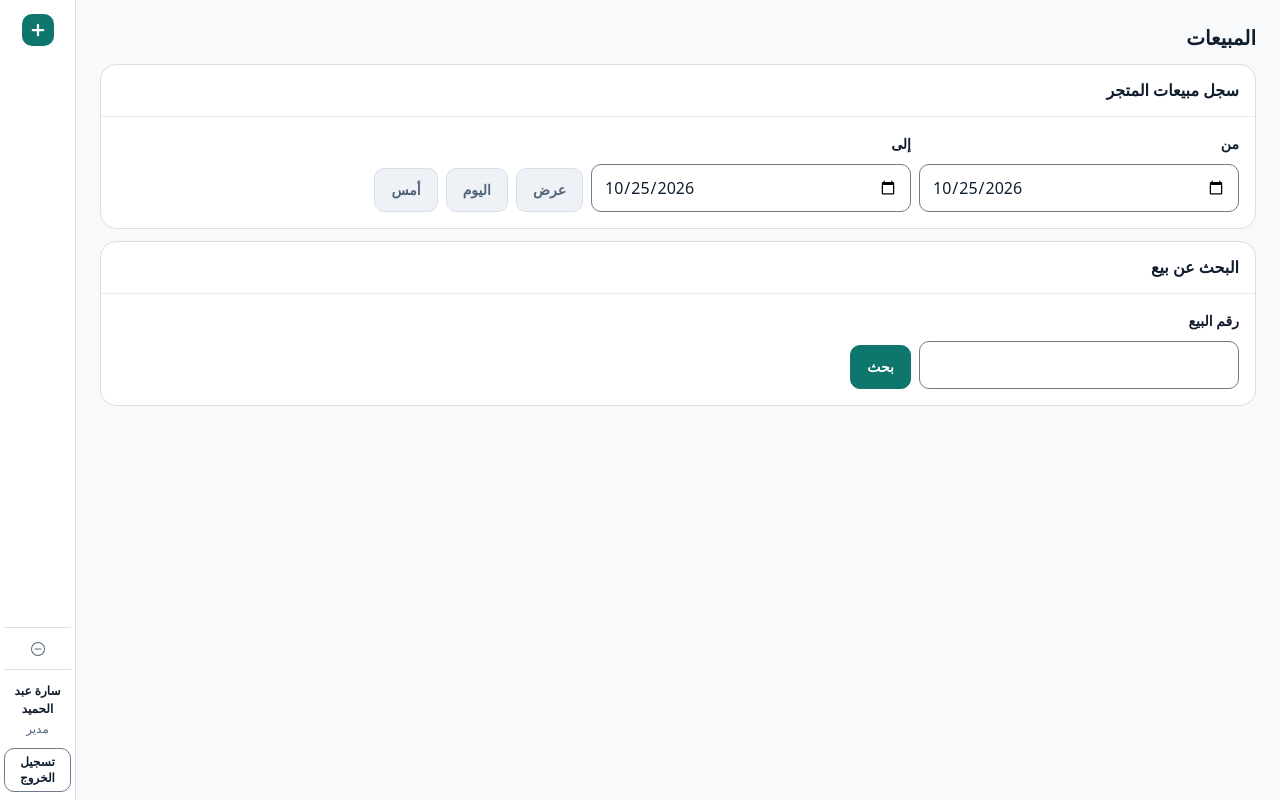
OneFrameProof — the Sales fakes (RT-500) › reprint=fail shows the warning
This screenshot has width=1280, height=800.
Type "TERM-01-2026-10-15-000042" into the field labelled "رقم البيع" at (1079, 364), box left=919, top=340, right=1239, bottom=388
Then press Enter
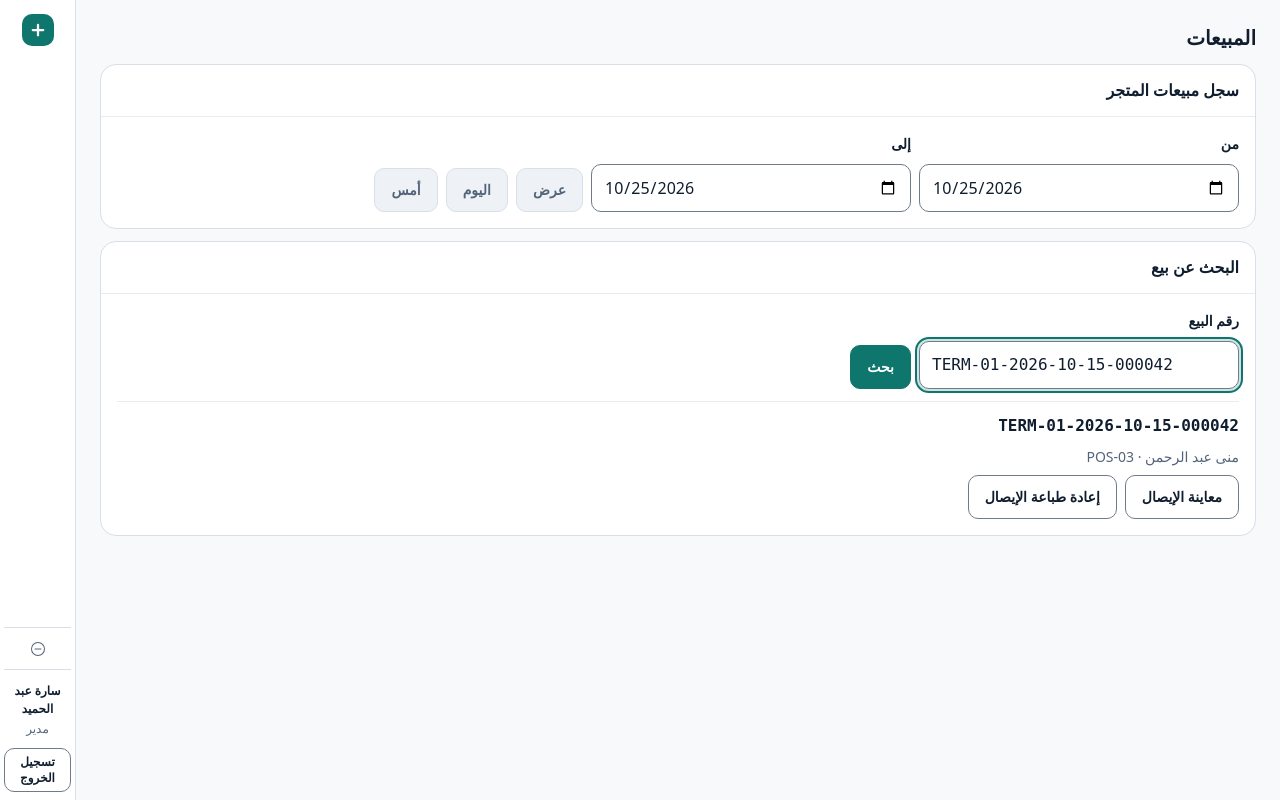
Click the button "إعادة طباعة الإيصال" at (1042, 496), box left=968, top=474, right=1117, bottom=518
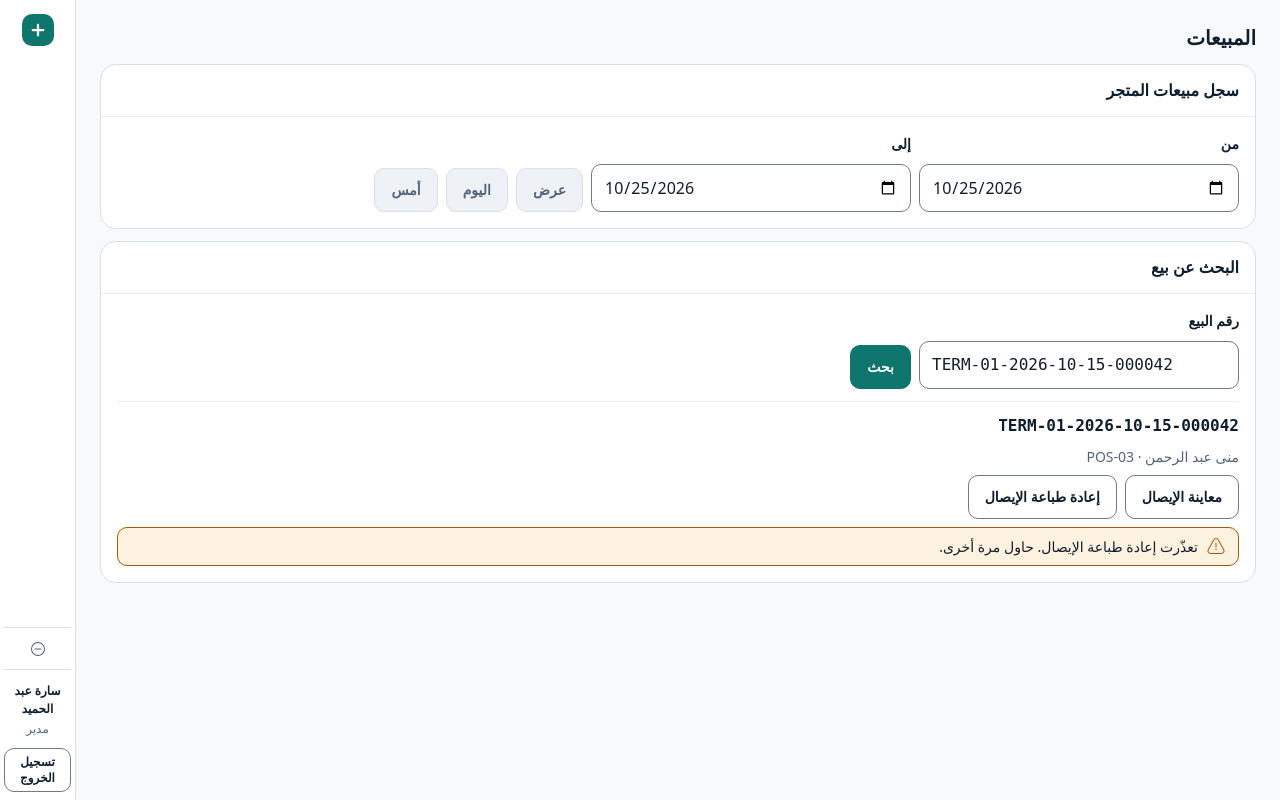
Check: the text "تعذّرت إعادة طباعة الإيصال. حاول مرة أخرى." is shown, box left=939, top=536, right=1198, bottom=556
